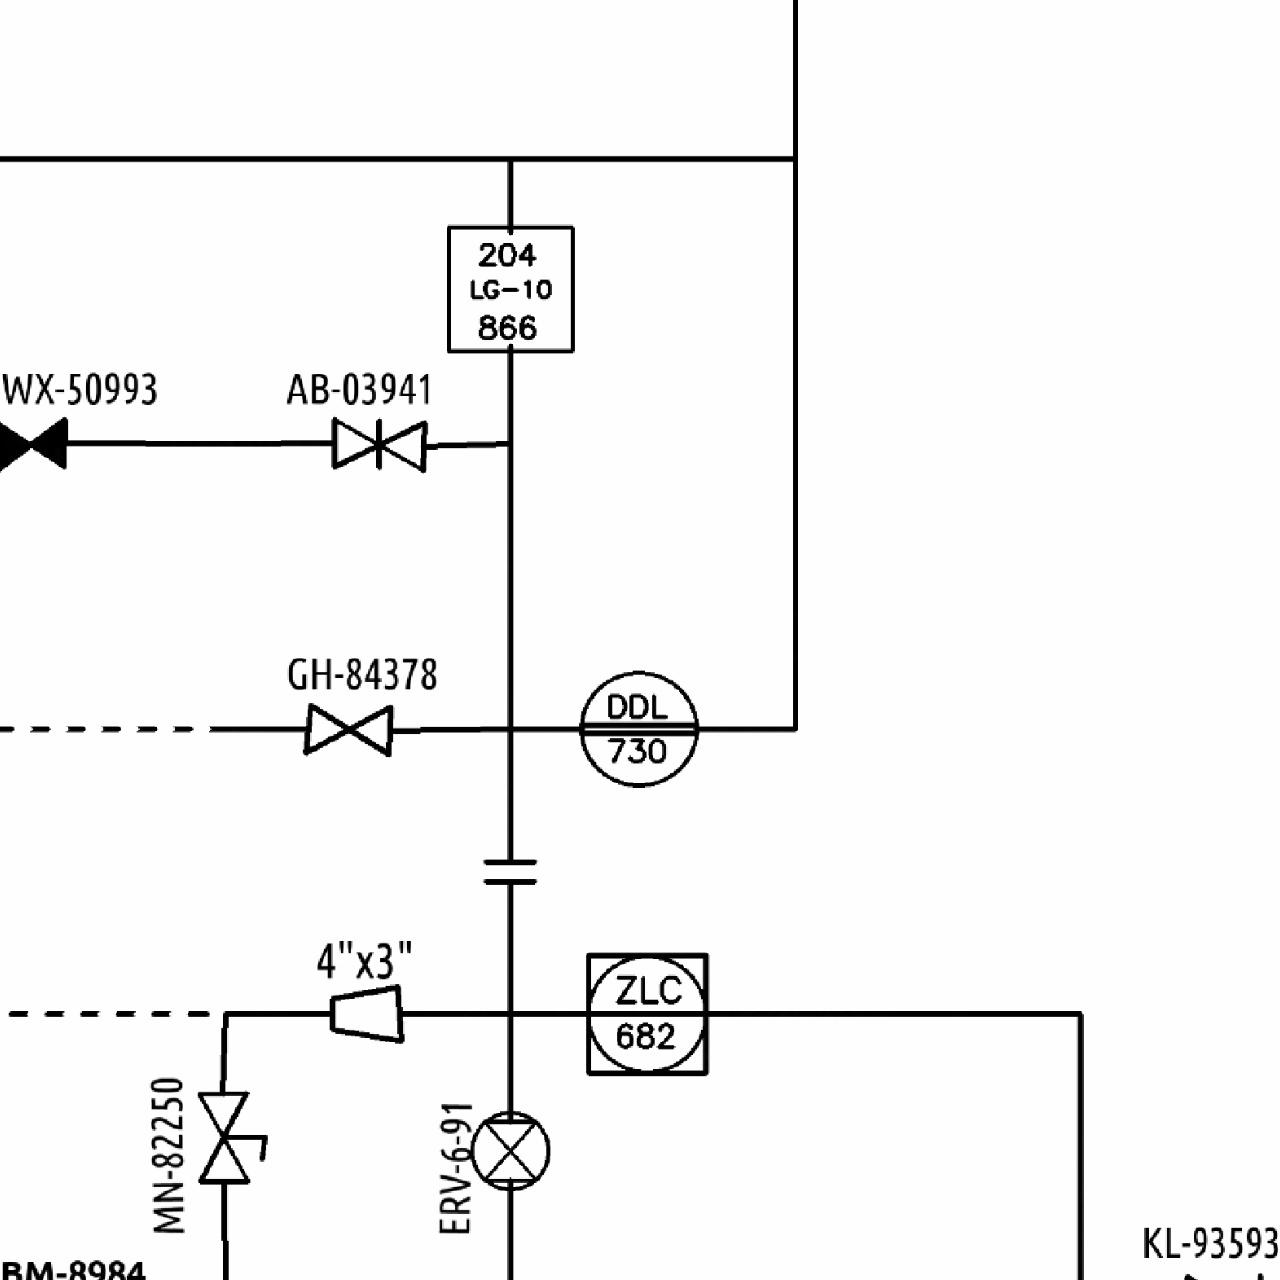Control-Panel: (574, 663, 702, 792)
